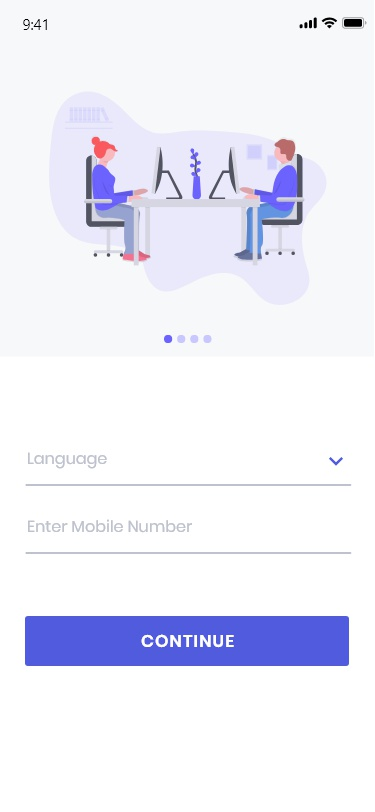EditText: (26, 519, 351, 555), (26, 452, 352, 487)
Icon: (329, 457, 344, 466)
Image: (49, 92, 328, 306)
PageIndicator: (164, 334, 214, 345)
Text: (28, 519, 192, 533), (28, 452, 109, 470)
TextButton: (26, 616, 350, 666)
UpperTaskBar: (23, 17, 368, 31)
